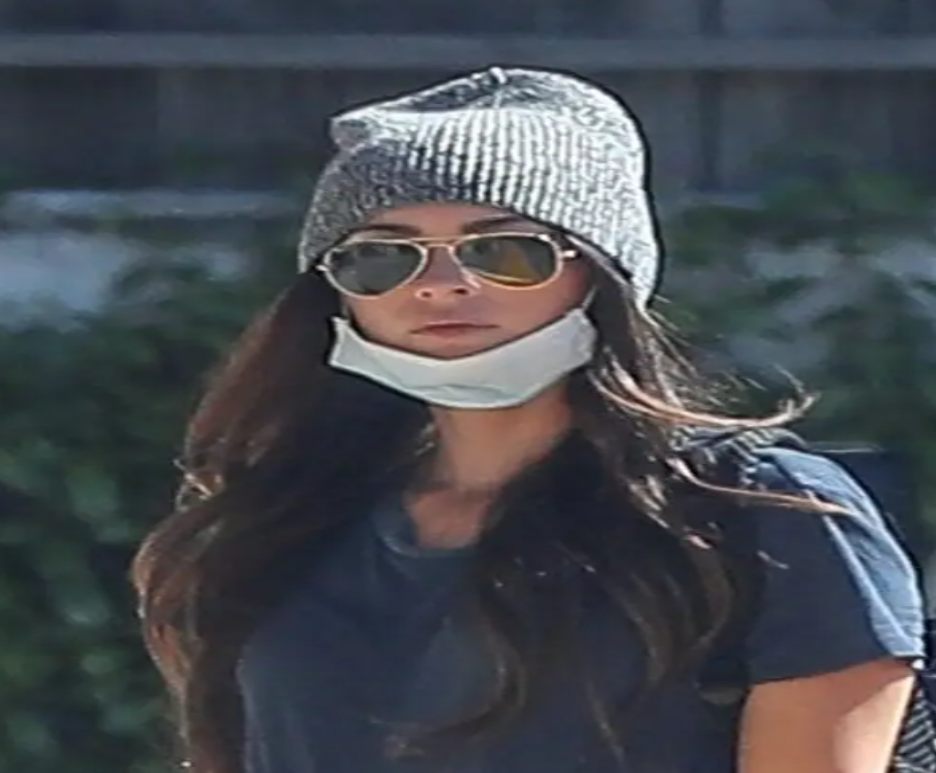mask_weared_incorrect: (299, 70, 658, 416)
